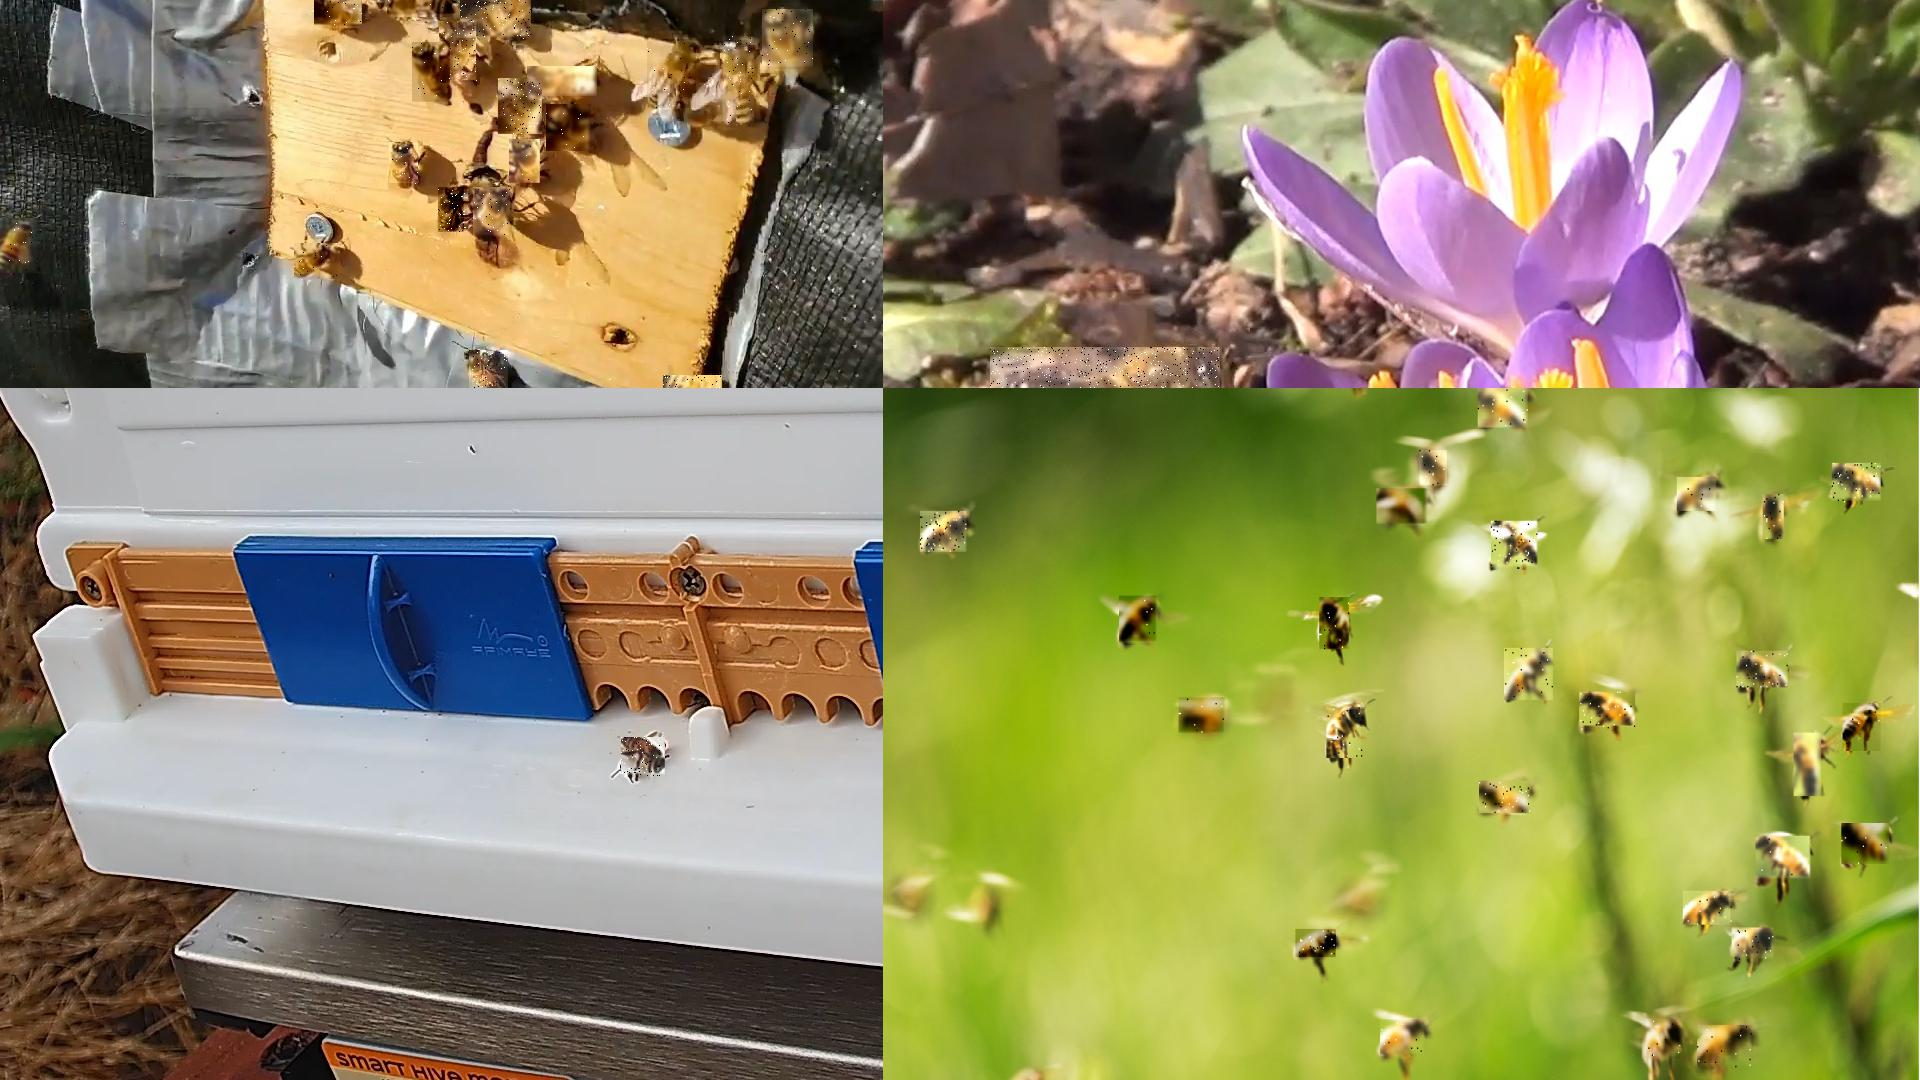bee: (990, 347, 1222, 386), (647, 40, 698, 109), (762, 9, 814, 70), (460, 0, 533, 41), (723, 37, 756, 127), (1755, 837, 1812, 884), (1505, 649, 1553, 702), (498, 78, 543, 135), (440, 22, 481, 84), (1698, 1026, 1754, 1069), (413, 42, 451, 103), (1491, 522, 1539, 571), (527, 67, 600, 99), (1580, 692, 1636, 732), (547, 104, 593, 152), (1842, 824, 1892, 868), (1328, 704, 1366, 760), (473, 187, 513, 239), (920, 512, 968, 554), (1795, 733, 1825, 798), (1737, 651, 1789, 688), (1121, 597, 1160, 646), (1378, 489, 1431, 525), (621, 737, 666, 778), (1684, 890, 1735, 926), (1481, 781, 1534, 815), (1179, 698, 1229, 733), (1381, 1021, 1427, 1058), (295, 244, 340, 281), (1643, 1019, 1681, 1060), (1677, 477, 1720, 513), (1731, 928, 1775, 963), (469, 349, 509, 386), (314, 0, 364, 29), (509, 140, 541, 185), (439, 187, 468, 233), (389, 142, 419, 186), (386, 0, 454, 18), (1296, 930, 1337, 959), (1763, 495, 1785, 541), (1420, 451, 1448, 487), (663, 375, 724, 386)
pollenbee: (0, 218, 41, 274), (1478, 389, 1531, 430), (1832, 464, 1882, 505), (1844, 703, 1884, 752), (1320, 597, 1350, 651)
